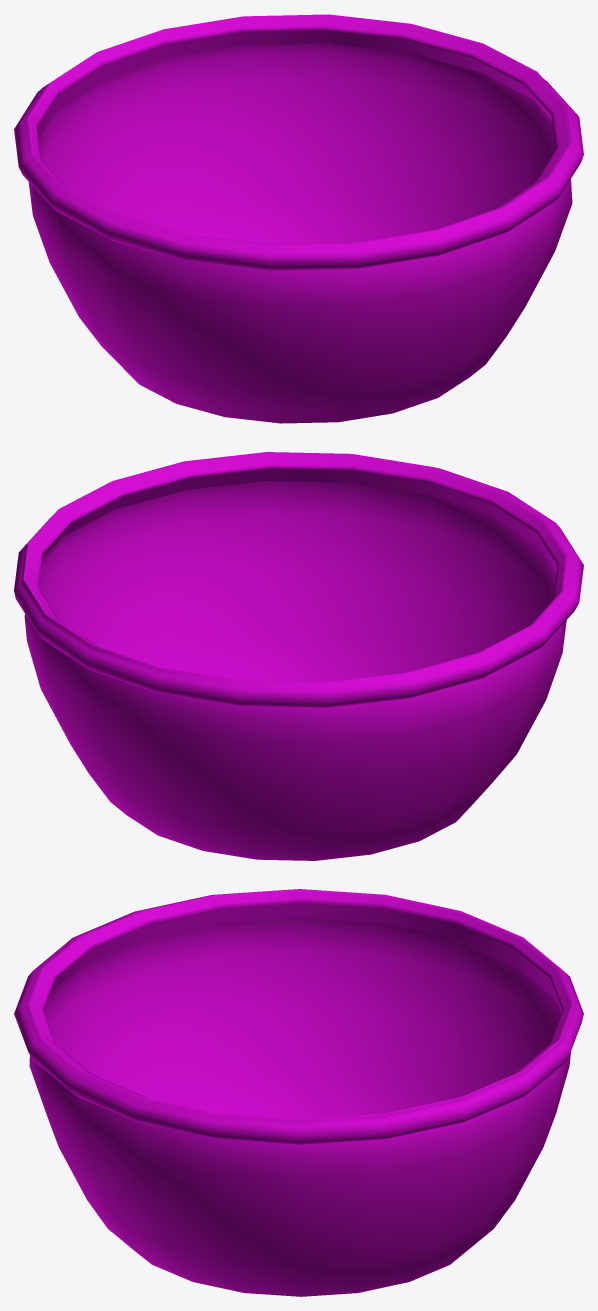
File: Bowl Fbx 2.fbx
3 renders of one model, top to bottom at view 1: azimuth 30°, elevation 25°; view 2: azimuth 150°, elevation 25°; view 3: azimuth 270°, elevation 25°, orthographic.
Parts seen in each view (by area): view 1: pCylinder1; view 2: pCylinder1; view 3: pCylinder1.
Part boxes in pixels (x1,y1,x2,y2): pCylinder1: [14, 14, 583, 423]; pCylinder1: [14, 452, 583, 860]; pCylinder1: [14, 889, 583, 1296].
Size of the model in its own units: 2.75 by 1.14 by 2.75.
